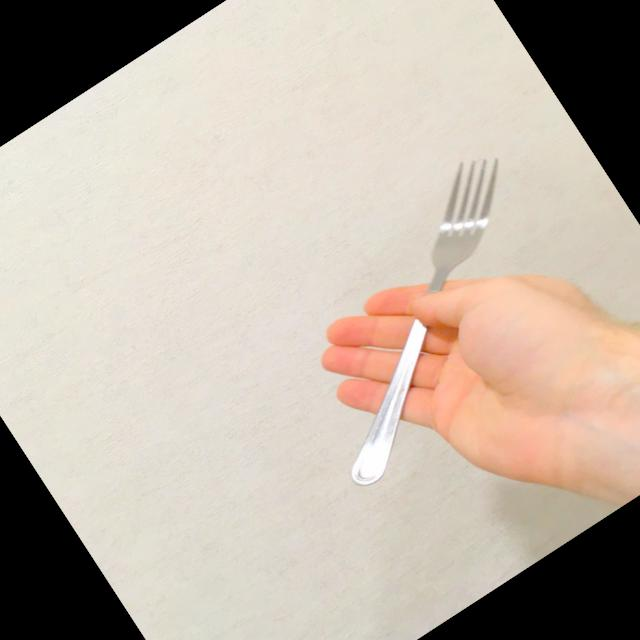fork: (236, 140, 612, 492)
